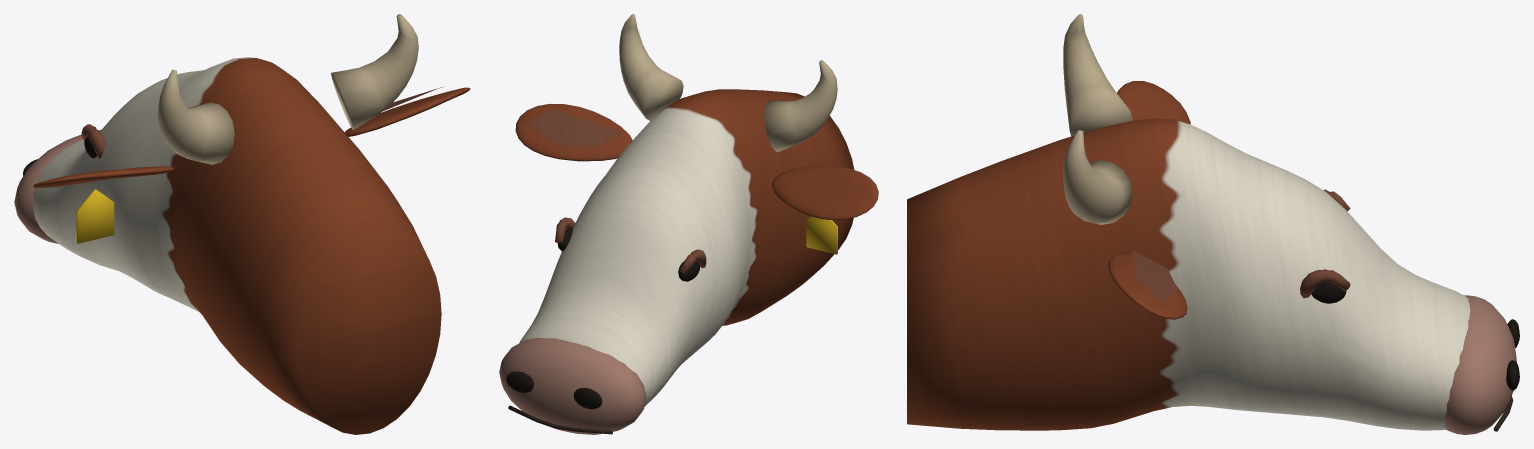
Rendered from SM_Cow_Alive_Head_LOD1.fbx.
The picture shows the model from 3 angles, left to right: view 1: azimuth 30°, elevation 25°; view 2: azimuth 150°, elevation 25°; view 3: azimuth 270°, elevation 25°; orthographic projection. The views are drawn at different scales.
Visible parts, largest first — view 1: SM_Cow_Alive_Head_LOD1; view 2: SM_Cow_Alive_Head_LOD1; view 3: SM_Cow_Alive_Head_LOD1.
Boxes of the visible parts, <box> form: SM_Cow_Alive_Head_LOD1: <box>14,14,470,434</box>; SM_Cow_Alive_Head_LOD1: <box>499,14,878,434</box>; SM_Cow_Alive_Head_LOD1: <box>907,14,1519,434</box>.
Size of the model in its own units: 1.02 by 1.2 by 0.7606.
